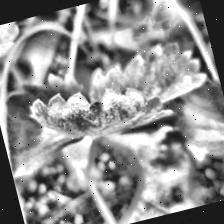Powdery Mildew Leaf: (25, 67, 176, 154)
